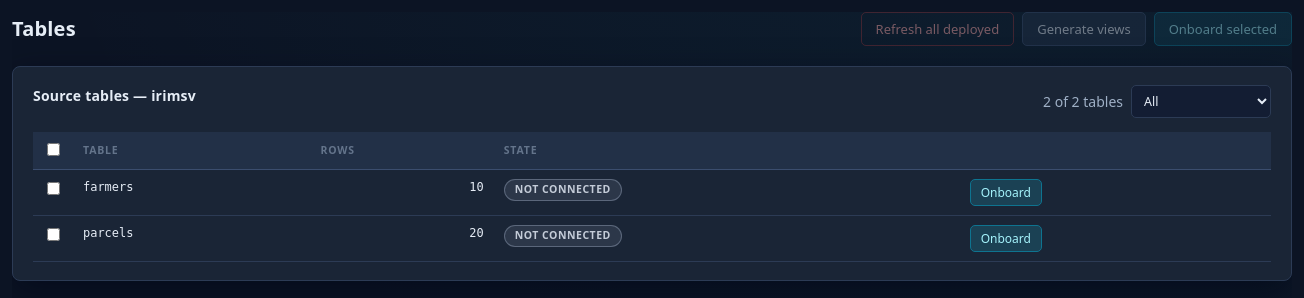
Tables (bulk onboard) › select-all checks every table and enables the bulk action
The image size is (1304, 298).
Expected: the text "farmers" is shown, [73, 169, 310, 215]
Click the checkbox named "Select all tables" at {"x": 54, "y": 150}, box [47, 143, 60, 156]
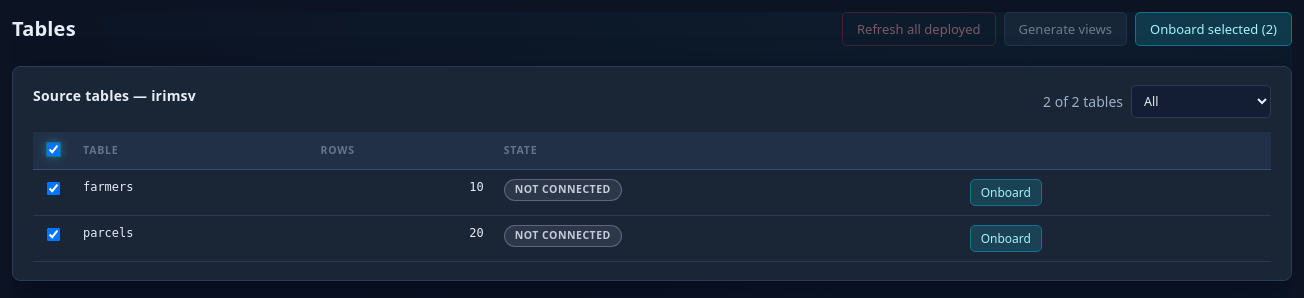
Expected: the checkbox named "Select farmers" is checked, [47, 182, 60, 195]
Expected: the checkbox named "Select parcels" is checked, [47, 228, 60, 241]
Expected: the button "Onboard selected (2)" is enabled, [1135, 12, 1292, 46]
